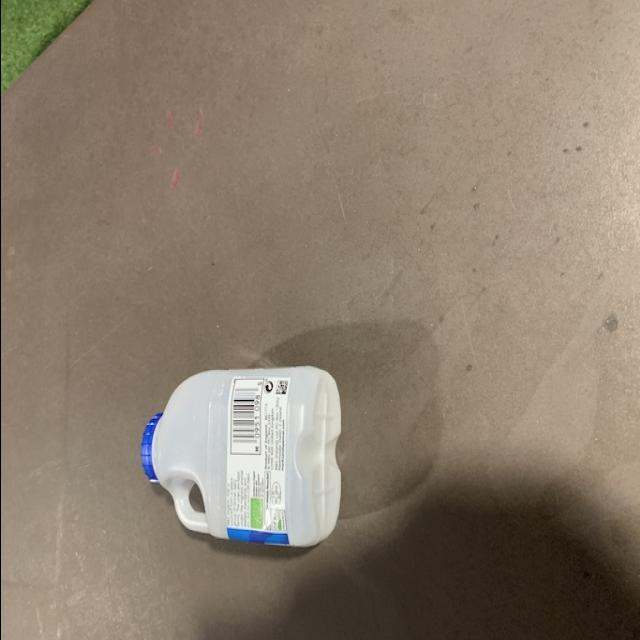HDPEM: (139, 358, 343, 554)
